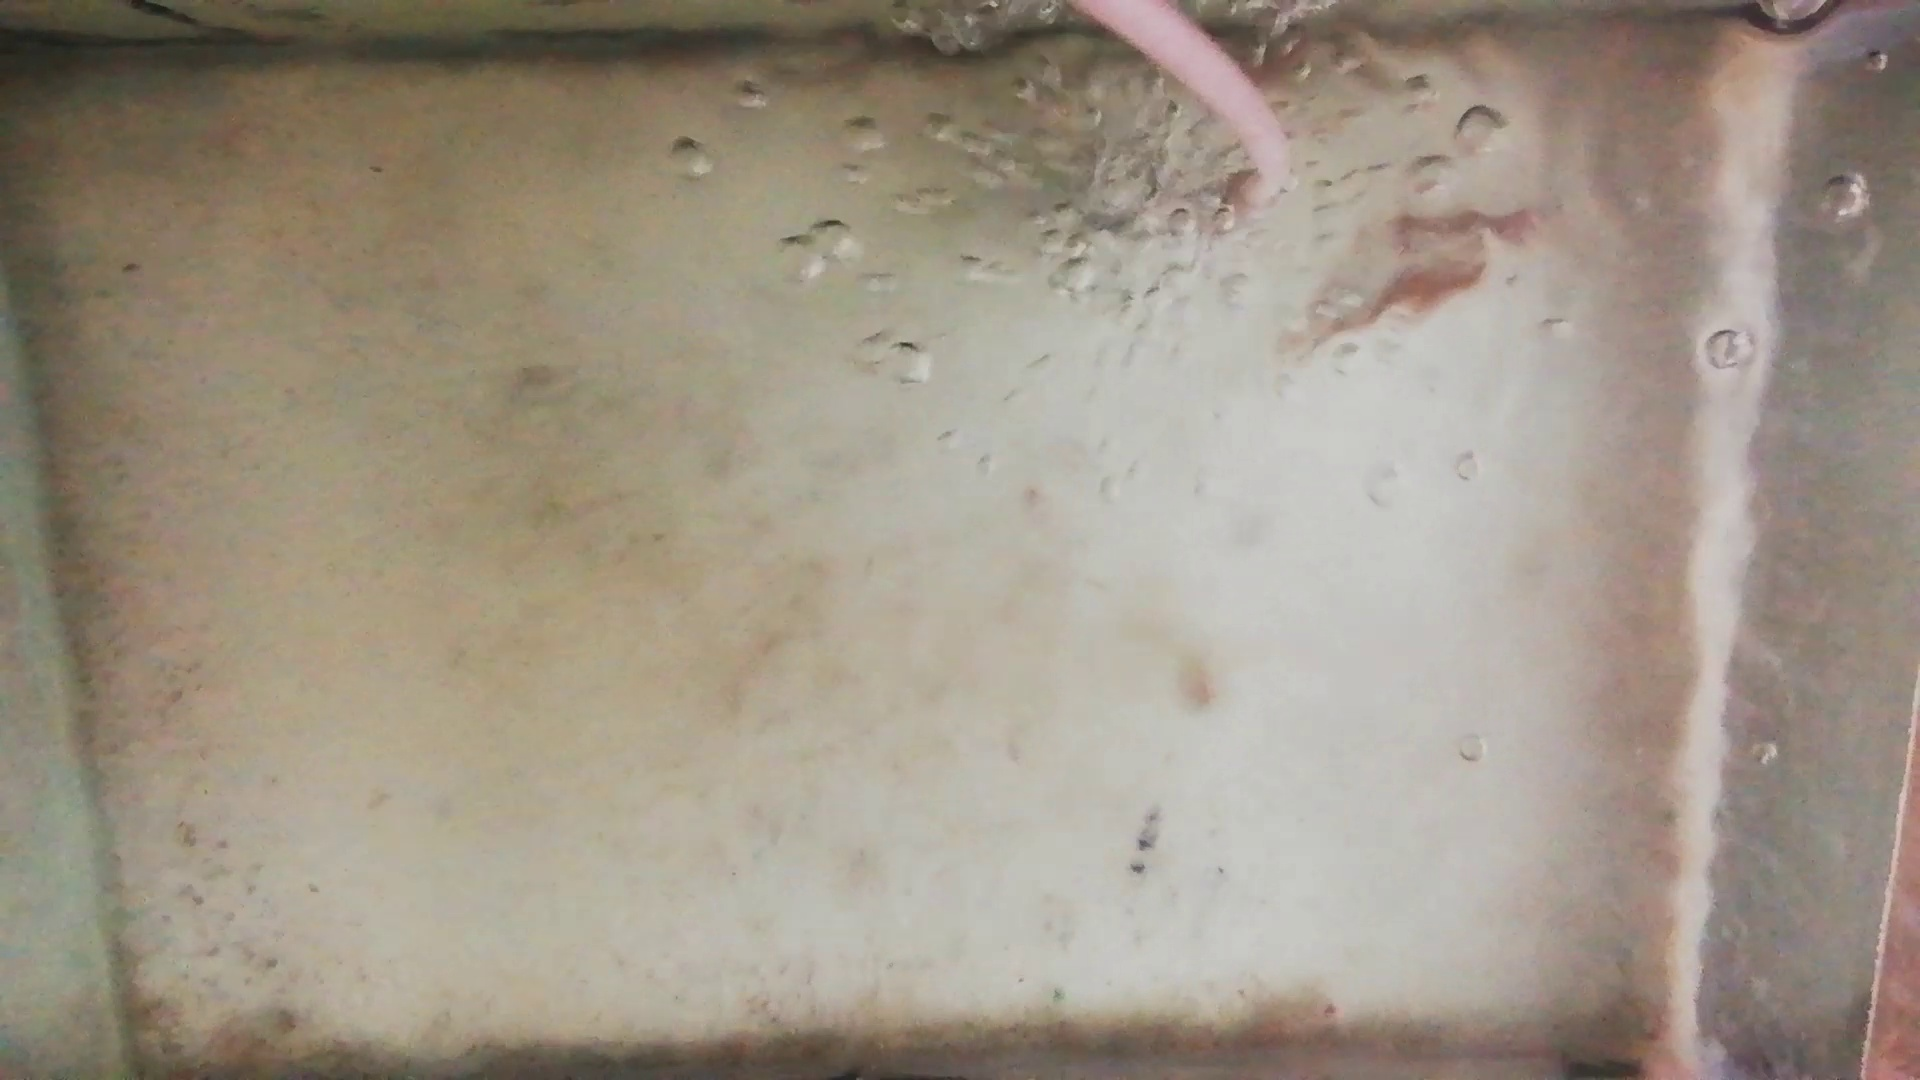fish: (1298, 260, 1491, 330), (1364, 211, 1538, 248)
